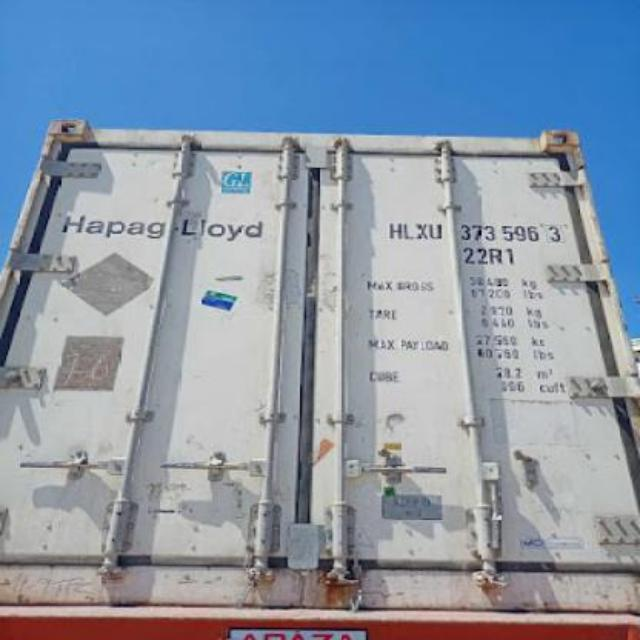3: (456, 223, 472, 241), (484, 224, 498, 240), (548, 224, 560, 242)
5: (500, 223, 516, 241)
6: (528, 225, 538, 241)
7: (472, 223, 484, 241)
9: (514, 226, 528, 242)
H: (386, 222, 402, 238)
L: (404, 224, 414, 240)
U: (430, 222, 442, 240)
X: (414, 222, 428, 238)
